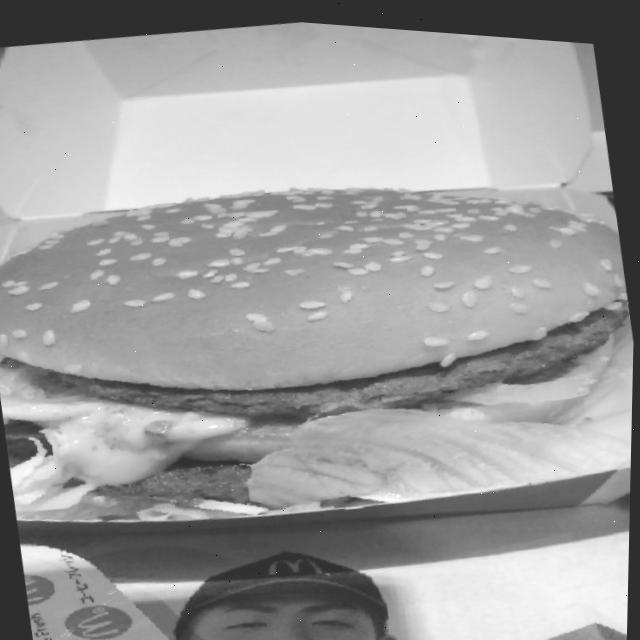汉堡快餐: (0, 112, 638, 578)
